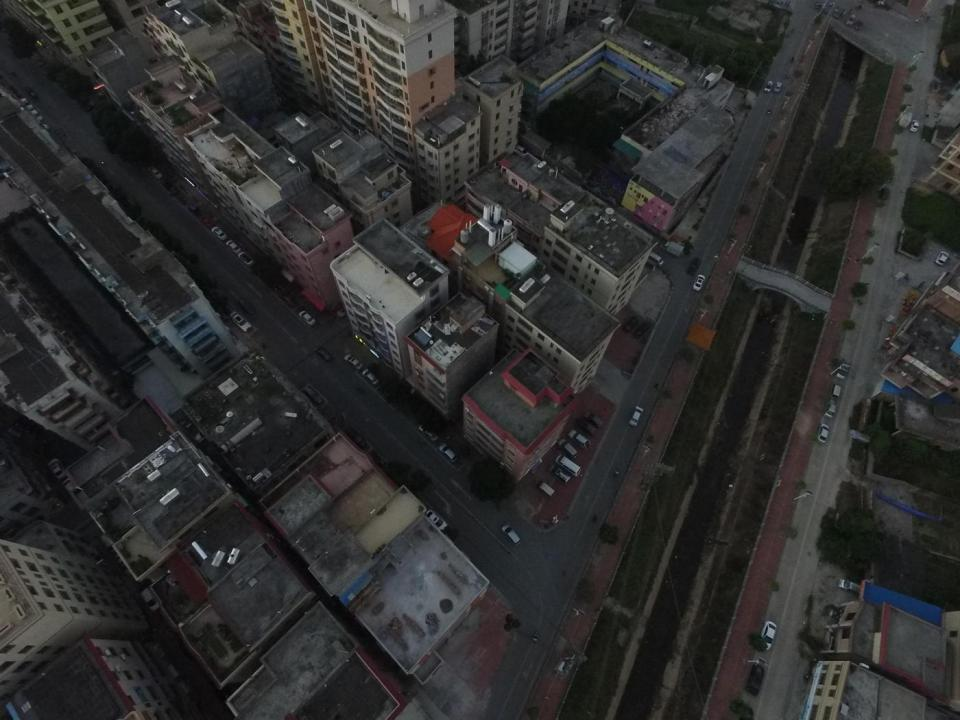car: (139, 586, 162, 613), (746, 663, 764, 697), (758, 620, 777, 651), (425, 509, 447, 531), (229, 311, 252, 332), (46, 457, 67, 480), (500, 523, 520, 546), (567, 429, 590, 449), (557, 438, 578, 459), (118, 555, 137, 578), (575, 418, 597, 436), (418, 423, 438, 442), (438, 444, 458, 463), (628, 405, 644, 427), (303, 386, 322, 404), (361, 369, 380, 386), (343, 353, 363, 369), (815, 423, 830, 444), (622, 316, 638, 334), (834, 361, 850, 379), (317, 346, 334, 362), (238, 298, 254, 314), (634, 322, 650, 338), (211, 226, 227, 241), (226, 239, 242, 254), (299, 310, 315, 325), (238, 251, 253, 266), (935, 251, 950, 266), (588, 413, 604, 427), (692, 274, 705, 291), (148, 166, 163, 179), (20, 98, 34, 110), (30, 109, 43, 121), (202, 215, 214, 228), (845, 14, 856, 27), (909, 119, 919, 133), (879, 187, 889, 200), (763, 81, 774, 92), (189, 204, 199, 214), (834, 8, 843, 19), (774, 82, 782, 92), (854, 21, 862, 30)
truck: (897, 103, 913, 129), (823, 397, 840, 419), (662, 241, 685, 257)
van: (555, 454, 581, 477), (547, 463, 572, 485), (837, 578, 869, 594), (100, 535, 121, 555), (646, 250, 665, 268), (536, 481, 556, 497), (686, 256, 702, 275), (828, 383, 841, 399)
